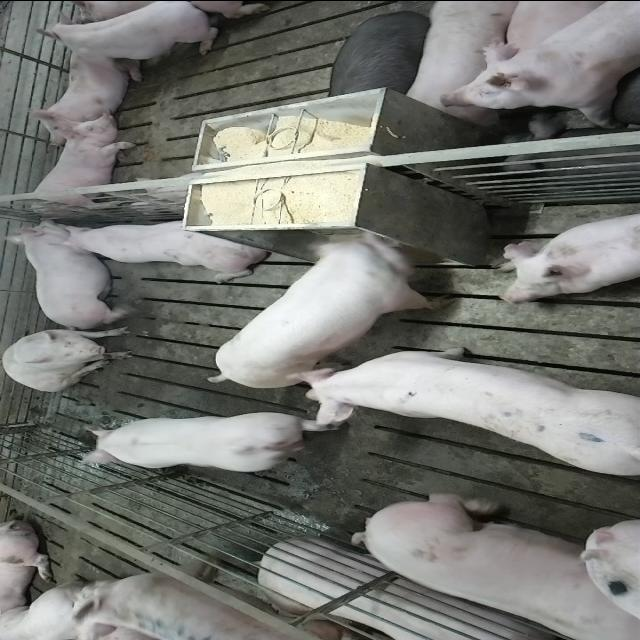Feeding: (203, 222, 449, 384)
Lateral_lying: (350, 486, 636, 636), (259, 539, 577, 640)
Sitting: (5, 325, 138, 391)
Standing: (288, 343, 634, 482), (80, 554, 362, 640), (452, 2, 640, 128), (398, 3, 538, 121), (82, 412, 331, 478), (321, 6, 433, 100)
Sternal_lying: (32, 2, 222, 82), (494, 205, 640, 301), (42, 215, 270, 276), (8, 220, 126, 324)
